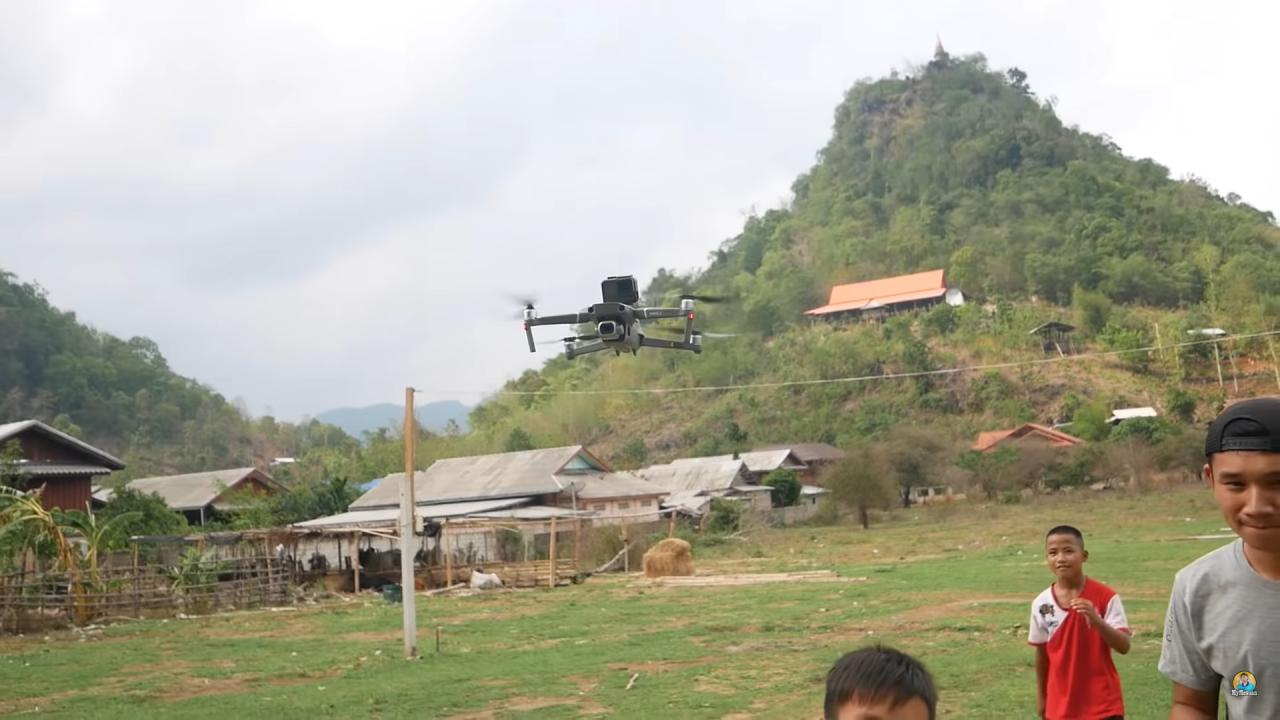Drone: (474, 254, 756, 376)
